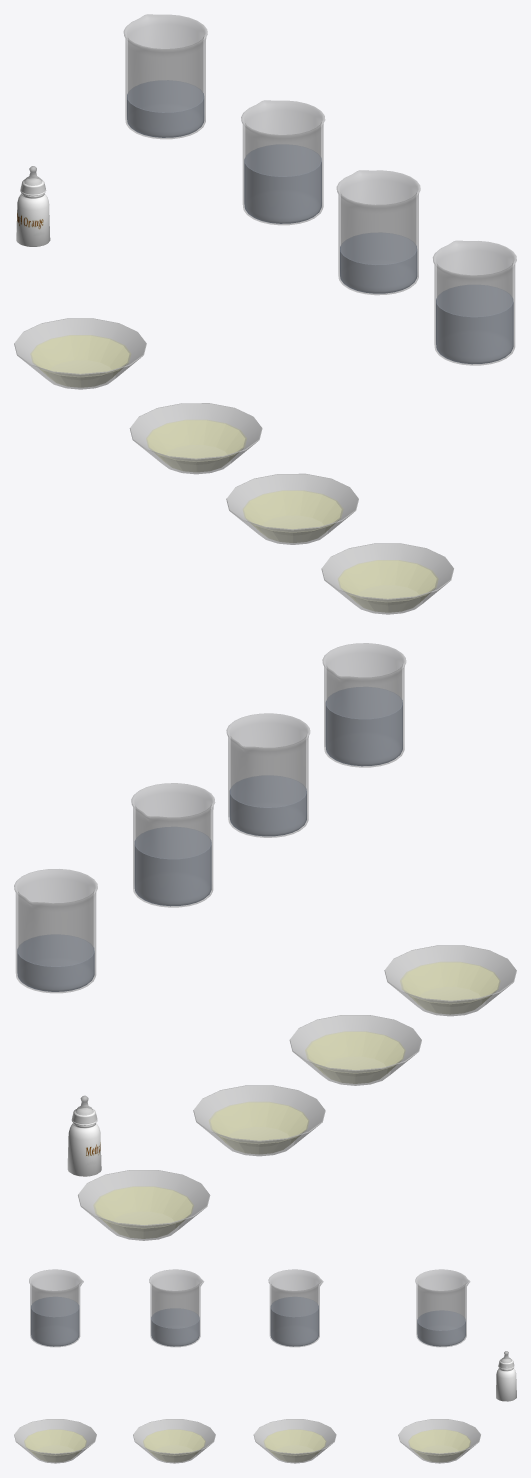
File: mythi_change_animation.fbx
3 renders of one model, top to bottom at view 1: azimuth 30°, elevation 25°; view 2: azimuth 150°, elevation 25°; view 3: azimuth 270°, elevation 25°, orthographic. The views are drawn at different scales.
Visible parts, largest first — view 1: bowl (×4), liquid1 (×4), polySurface12, polySurface15, polySurface10, polySurface24, polySurface13, polySurface22, polySurface11, polySurface14, mythl_orange; view 2: bowl (×4), liquid1 (×4), polySurface24, polySurface15, polySurface12, polySurface10, polySurface13, polySurface22, polySurface11, polySurface14, mythl_orange; view 3: bowl (×4), liquid1 (×4), polySurface24, polySurface12, polySurface10, polySurface15, polySurface13, polySurface22, polySurface11, polySurface14, mythl_orange.
Part boxes in pixels (x1,y1,x2,y2): bowl (×4): [14, 318, 453, 614]; liquid1 (×4): [30, 335, 438, 612]; polySurface12: [241, 100, 325, 225]; polySurface15: [433, 240, 516, 365]; polySurface10: [336, 170, 420, 295]; polySurface24: [123, 14, 207, 139]; polySurface13: [244, 144, 321, 223]; polySurface22: [436, 285, 513, 364]; polySurface11: [340, 232, 417, 293]; polySurface14: [127, 80, 204, 137]; mythl_orange: [16, 166, 50, 246]; bowl (×4): [78, 945, 516, 1240]; liquid1 (×4): [93, 961, 500, 1238]; polySurface24: [14, 869, 97, 993]; polySurface15: [322, 643, 406, 767]; polySurface12: [131, 783, 215, 907]; polySurface10: [226, 713, 310, 837]; polySurface13: [134, 827, 211, 906]; polySurface22: [325, 687, 402, 766]; polySurface11: [229, 775, 306, 836]; polySurface14: [17, 934, 94, 991]; mythl_orange: [67, 1095, 101, 1176]; bowl (×4): [14, 1419, 480, 1463]; liquid1 (×4): [24, 1429, 470, 1462]; polySurface24: [415, 1269, 470, 1347]; polySurface12: [268, 1269, 323, 1347]; polySurface10: [149, 1269, 203, 1347]; polySurface15: [29, 1269, 83, 1347]; polySurface13: [270, 1297, 318, 1346]; polySurface22: [31, 1297, 79, 1346]; polySurface11: [151, 1308, 199, 1346]; polySurface14: [417, 1310, 465, 1346]; mythl_orange: [496, 1351, 516, 1401].
Size of the model in its own units: 50.37 by 85.7 by 195.
Materials: 6 (1 with a texture image).
